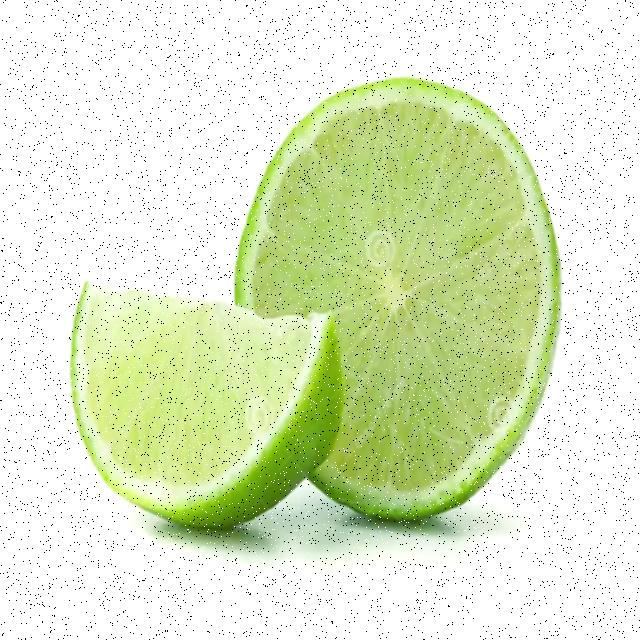Lime: (221, 54, 564, 523), (70, 267, 350, 549)
